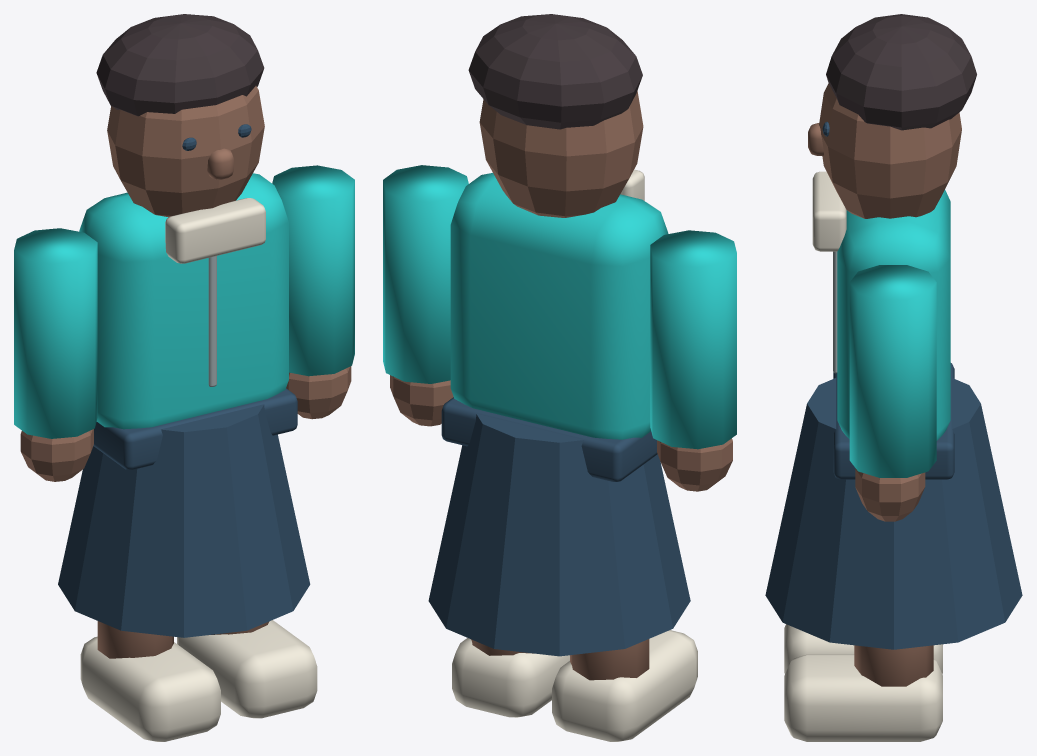
File: HL_Pedestrian_01.fbx
3 views of the same model, side by side, from view 1: azimuth 30°, elevation 25°; view 2: azimuth 150°, elevation 25°; view 3: azimuth 270°, elevation 25° (orthographic). The views are drawn at different scales.
Parts seen in each view (by area): view 1: Legwear | skirt, Torso | tailored jacket.001, Arm | sleeve.002, Arm | sleeve.003, Head | face.001, Head | hair cap.001, Foot | sneaker.002, Foot | sneaker.003, Torso | collar.001, Torso | belt.001, Arm | hand.002, Arm | hand.003 (+3 smaller); view 2: Legwear | skirt, Torso | tailored jacket.001, Arm | sleeve.002, Head | hair cap.001, Arm | sleeve.003, Head | face.001, Foot | sneaker.002, Foot | sneaker.003, Torso | belt.001, Arm | hand.002, Leg | calf, Arm | hand.003; view 3: Legwear | skirt, Arm | sleeve.003, Head | hair cap.001, Head | face.001, Foot | sneaker.003, Torso | tailored jacket.001, Leg | calf.001, Arm | hand.003, Torso | collar.001, Torso | belt.001, Foot | sneaker.002, Jacket | coral or teal chest zip.001.
Boxes of the visible parts, left/top/right/bottom form: Legwear | skirt: left=58, top=404, right=310, bottom=637; Torso | tailored jacket.001: left=79, top=173, right=288, bottom=429; Arm | sleeve.002: left=14, top=228, right=97, bottom=438; Arm | sleeve.003: left=272, top=165, right=354, bottom=376; Head | face.001: left=107, top=86, right=264, bottom=217; Head | hair cap.001: left=96, top=14, right=264, bottom=116; Foot | sneaker.002: left=80, top=636, right=220, bottom=741; Foot | sneaker.003: left=177, top=620, right=317, bottom=718; Torso | collar.001: left=165, top=198, right=265, bottom=263; Torso | belt.001: left=93, top=388, right=297, bottom=469; Arm | hand.002: left=20, top=429, right=93, bottom=481; Arm | hand.003: left=286, top=366, right=351, bottom=419; Legwear | skirt: left=428, top=413, right=690, bottom=656; Torso | tailored jacket.001: left=450, top=173, right=668, bottom=439; Arm | sleeve.002: left=650, top=230, right=736, bottom=449; Head | hair cap.001: left=468, top=14, right=642, bottom=129; Arm | sleeve.003: left=383, top=165, right=468, bottom=383; Head | face.001: left=479, top=90, right=643, bottom=217; Foot | sneaker.002: left=552, top=630, right=697, bottom=741; Foot | sneaker.003: left=452, top=638, right=569, bottom=717; Torso | belt.001: left=441, top=397, right=657, bottom=481; Arm | hand.002: left=657, top=438, right=732, bottom=491; Leg | calf: left=570, top=639, right=649, bottom=680; Arm | hand.003: left=390, top=375, right=453, bottom=426; Legwear | skirt: left=765, top=378, right=1022, bottom=649; Arm | sleeve.003: left=849, top=265, right=936, bottom=477; Head | hair cap.001: left=826, top=14, right=976, bottom=130; Head | face.001: left=819, top=83, right=961, bottom=218; Foot | sneaker.003: left=784, top=654, right=942, bottom=741; Torso | tailored jacket.001: left=837, top=190, right=950, bottom=440; Leg | calf.001: left=854, top=645, right=933, bottom=686; Arm | hand.003: left=855, top=468, right=925, bottom=521; Torso | collar.001: left=812, top=171, right=846, bottom=251; Torso | belt.001: left=833, top=363, right=954, bottom=479; Foot | sneaker.002: left=784, top=624, right=942, bottom=673; Jacket | coral or teal chest zip.001: left=833, top=251, right=837, bottom=373.
Bounding box in the file's own units: 102 × 199 × 68.
